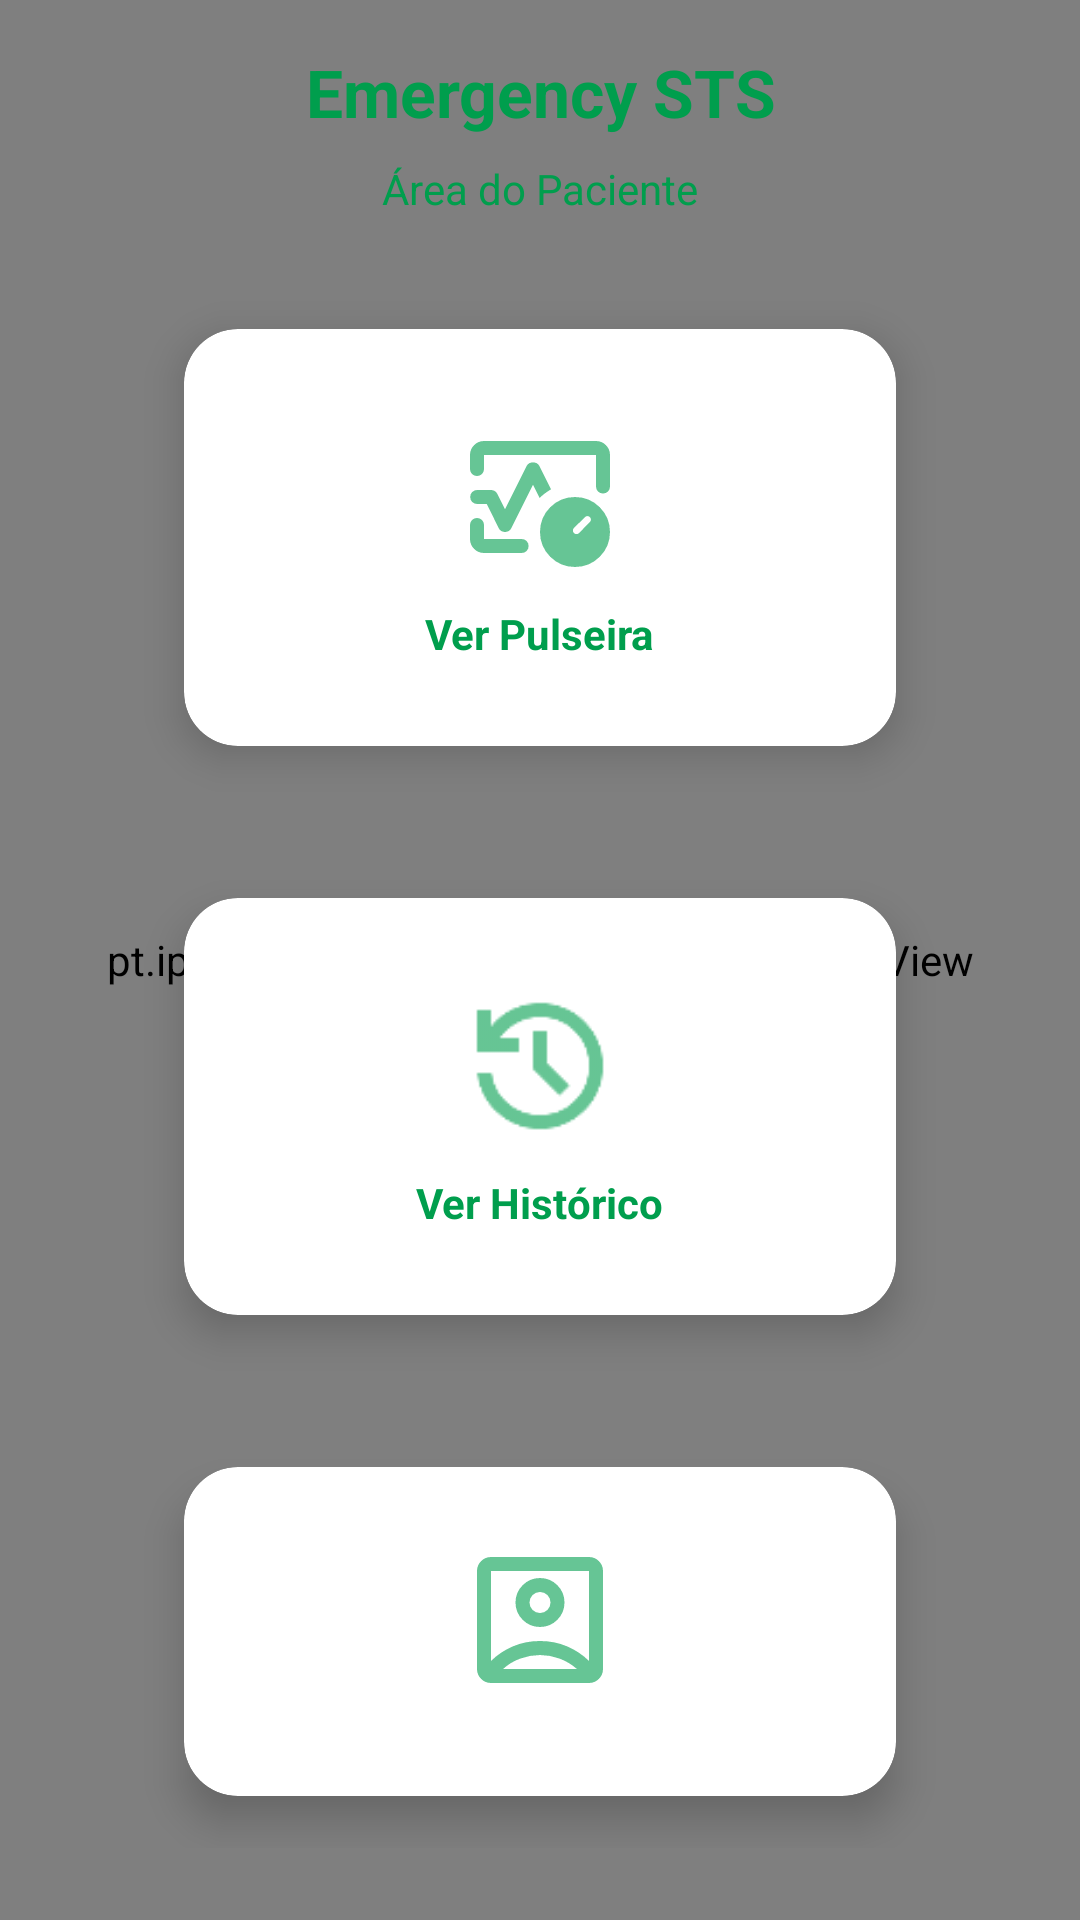

Where icons sit on this 1080x1920 app screen, as {"left": x1, "top": y1, "right": x2, "bottom": y2}:
historico: {"left": 476, "top": 1002, "right": 604, "bottom": 1130}
perfil: {"left": 477, "top": 1557, "right": 603, "bottom": 1683}
